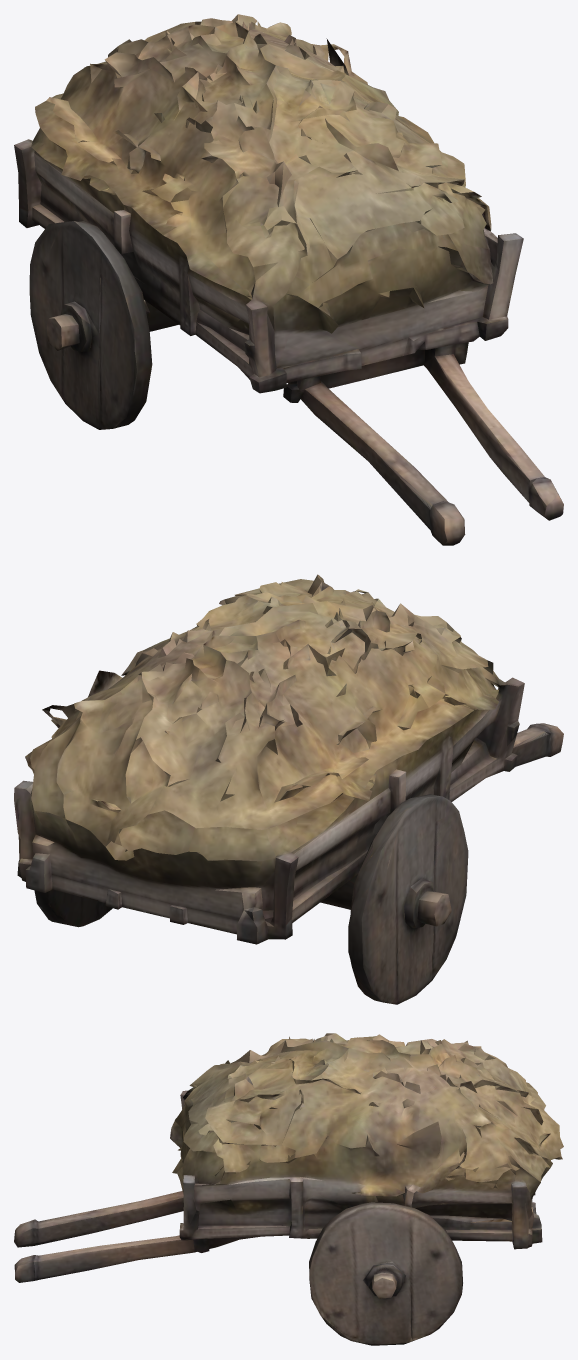
The model's file is prop-hay-cart.glb.
3 views of the same model, one above another, from view 1: azimuth 30°, elevation 25°; view 2: azimuth 150°, elevation 25°; view 3: azimuth 270°, elevation 25° (orthographic). The views are drawn at different scales.
Parts seen in each view (by area): view 1: prop-hay-cart; view 2: prop-hay-cart; view 3: prop-hay-cart.
Part boxes in pixels (x1,y1,x2,y2): prop-hay-cart: [14, 14, 563, 545]; prop-hay-cart: [14, 574, 563, 1004]; prop-hay-cart: [14, 1033, 563, 1345].
Size of the model in its own units: 2.24 by 1.83 by 3.81.
1 material, 1 textured.
